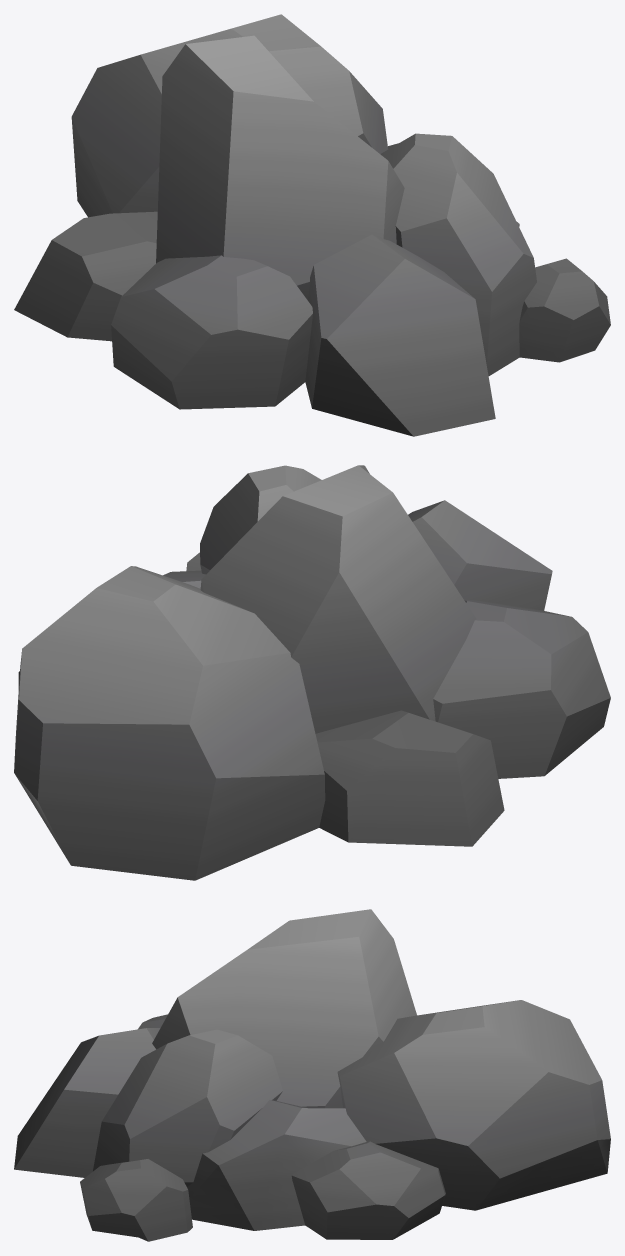
The model's file is RockFormation_3.fbx.
3 views of the same model, one above another, from view 1: azimuth 30°, elevation 25°; view 2: azimuth 150°, elevation 25°; view 3: azimuth 270°, elevation 25° (orthographic). The views are drawn at different scales.
Parts seen in each view (by area): view 1: RockFormation_3; view 2: RockFormation_3; view 3: RockFormation_3.
Boxes of the visible parts, <box> form: RockFormation_3: <box>14,14,610,436</box>; RockFormation_3: <box>14,465,610,880</box>; RockFormation_3: <box>14,909,610,1241</box>.
Size of the model in its own units: 582 by 321 by 802.
